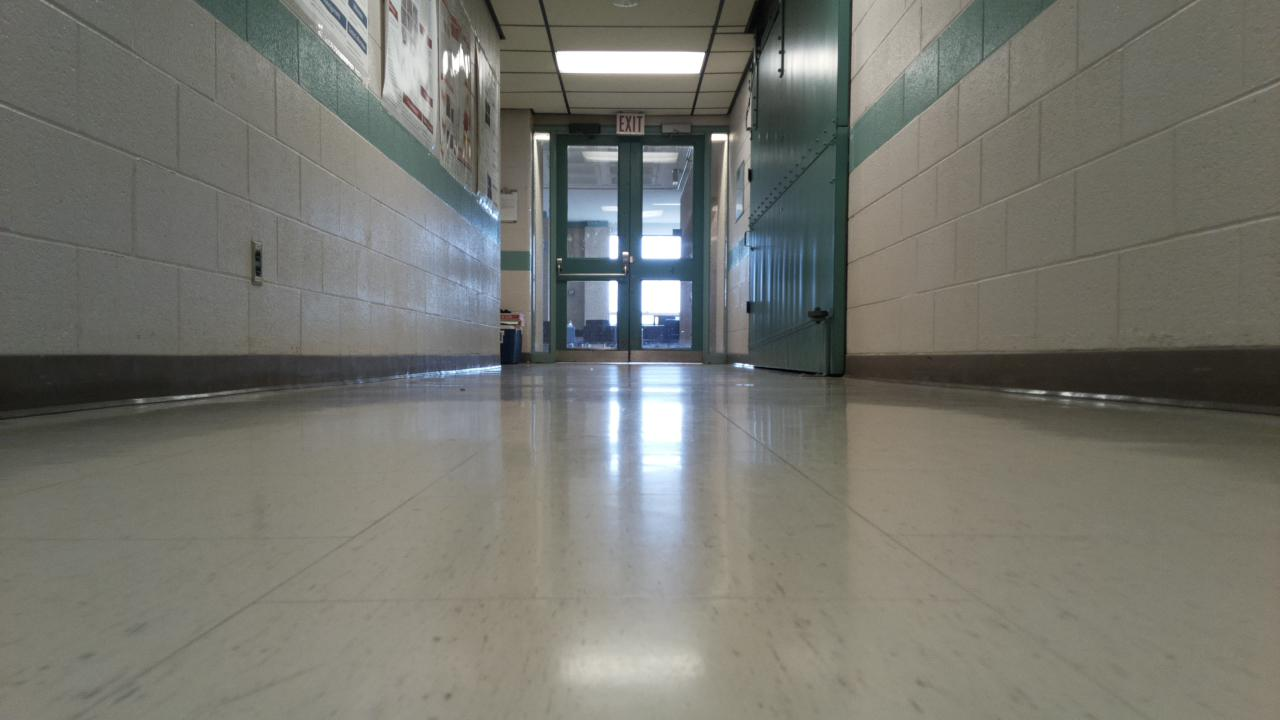door: (555, 134, 703, 362)
sign: (616, 113, 644, 134)
